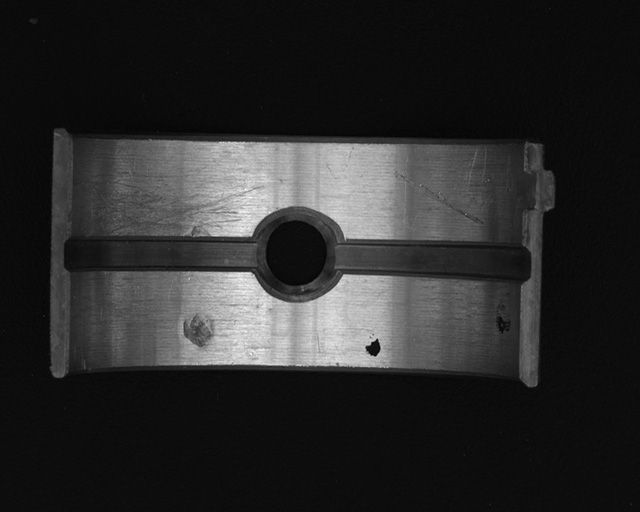blot: (495, 300, 513, 336), (364, 332, 382, 358)
bruise: (181, 312, 216, 349)
gap: (329, 238, 532, 285), (65, 234, 261, 275)
hole: (254, 209, 340, 299)
nick: (392, 170, 486, 227)
scratch: (82, 158, 264, 237)
